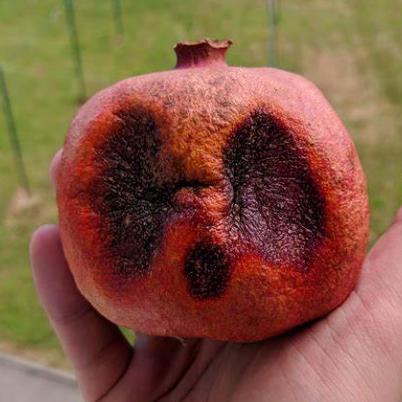pomegranate_C: (56, 38, 371, 343)
